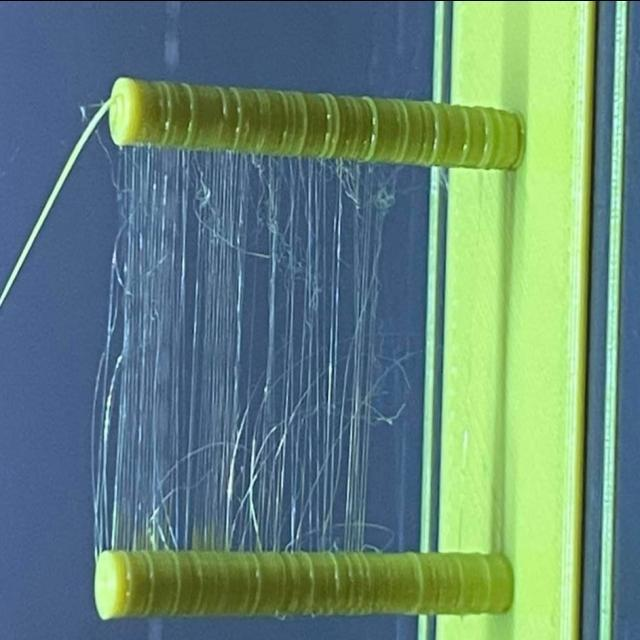stringing: (104, 145, 396, 550)
